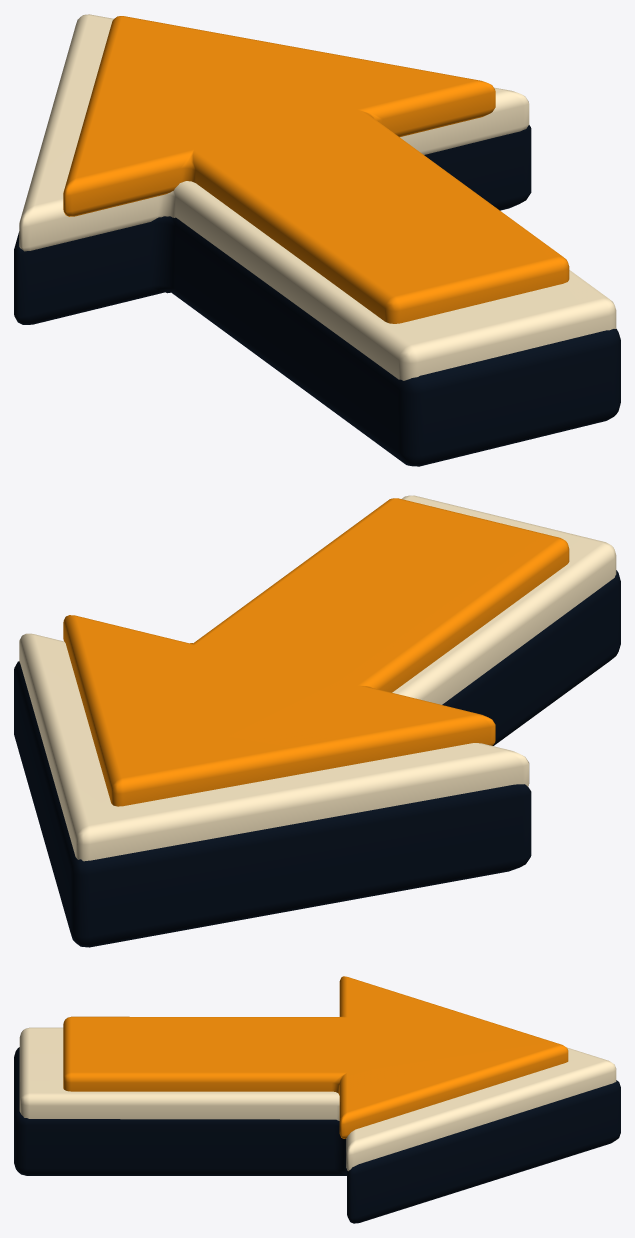
The model's file is tutorial_gate_arrow.obj.
The picture shows the model from 3 angles, top to bottom: view 1: azimuth 30°, elevation 25°; view 2: azimuth 150°, elevation 25°; view 3: azimuth 270°, elevation 25°; orthographic projection. The views are drawn at different scales.
Visible parts, largest first — view 1: ArrowFace, ArrowBody, ArrowBorder; view 2: ArrowFace, ArrowBody, ArrowBorder; view 3: ArrowFace, ArrowBody, ArrowBorder.
Part boxes in pixels (x1,y1,x2,y2): ArrowFace: [63, 16, 569, 323]; ArrowBody: [14, 125, 620, 466]; ArrowBorder: [19, 14, 616, 380]; ArrowFace: [63, 498, 569, 806]; ArrowBody: [14, 570, 620, 947]; ArrowBorder: [19, 495, 616, 861]; ArrowFace: [63, 976, 568, 1138]; ArrowBody: [14, 1047, 620, 1223]; ArrowBorder: [19, 1027, 616, 1170].
Size of the model in its own units: 2.35 by 0.62 by 3.46.
